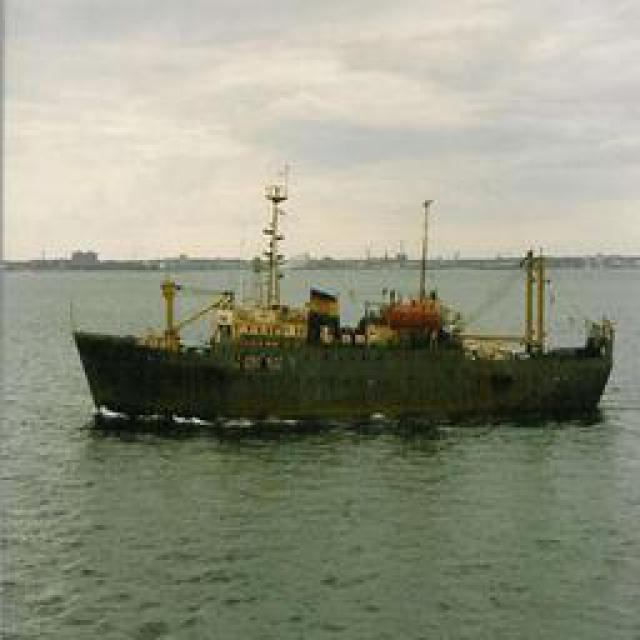Ship: (55, 197, 618, 430)
